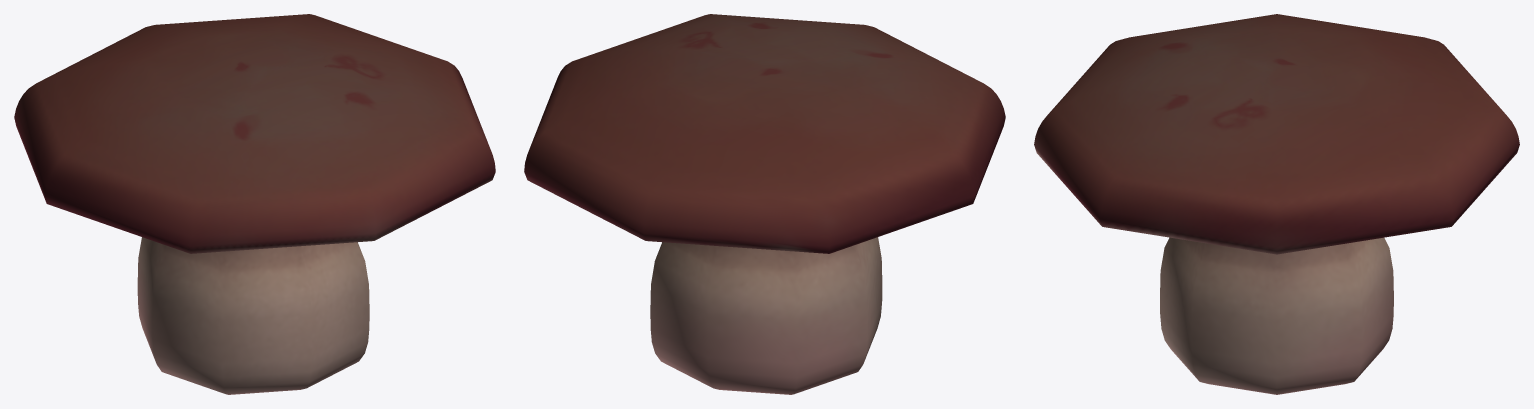
File: Shroom001.glb
3 renders of one model, left to right at view 1: azimuth 30°, elevation 25°; view 2: azimuth 150°, elevation 25°; view 3: azimuth 270°, elevation 25°, orthographic.
Visible parts, largest first — view 1: Mushroom01; view 2: Mushroom01; view 3: Mushroom01.
Boxes of the visible parts, <box> form: Mushroom01: <box>14,14,495,394</box>; Mushroom01: <box>524,14,1005,394</box>; Mushroom01: <box>1034,14,1519,394</box>.
Bounding box in the file's own units: 0.1201 × 0.0801 × 0.1201.
1 material, 1 textured.
